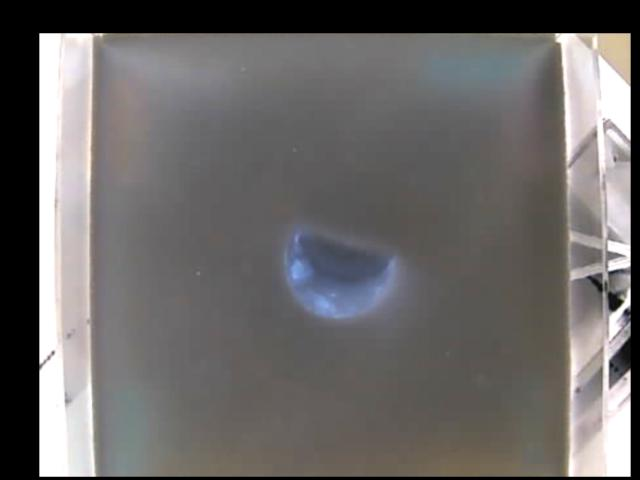Mooli: (283, 224, 395, 317)
